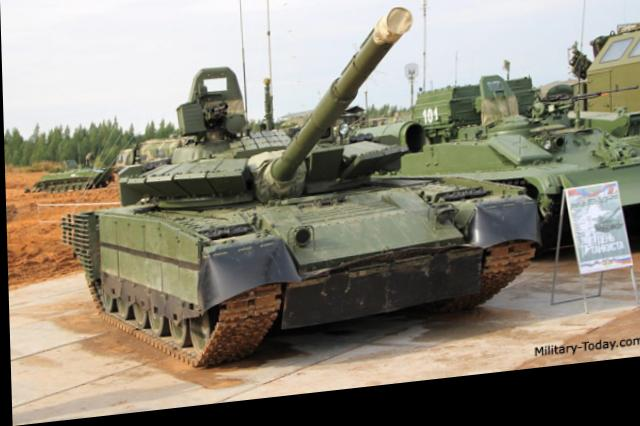tank: (72, 115, 518, 360), (402, 75, 640, 268), (32, 164, 111, 194)
